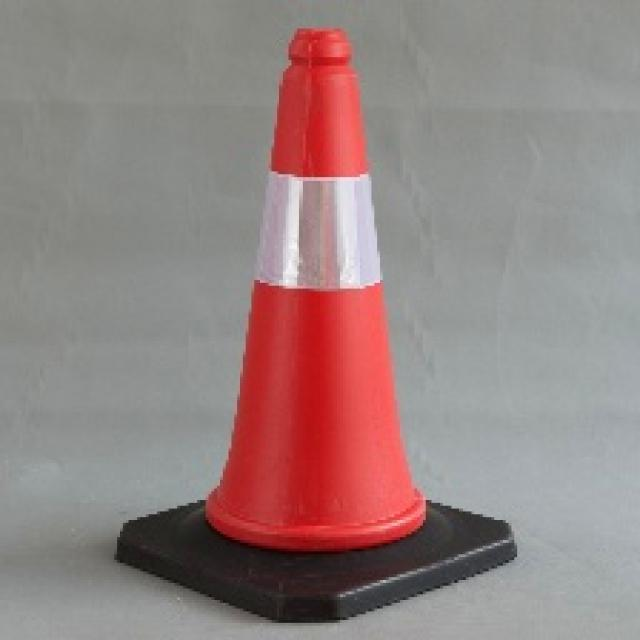cone: (111, 20, 520, 625)
